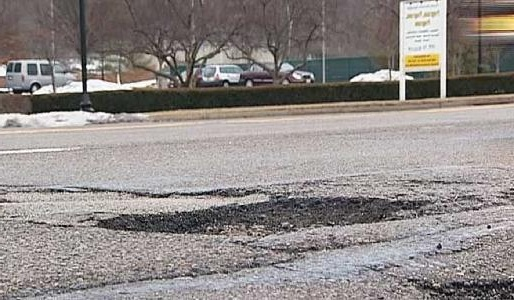pothole: (95, 197, 416, 237), (416, 276, 514, 299)
